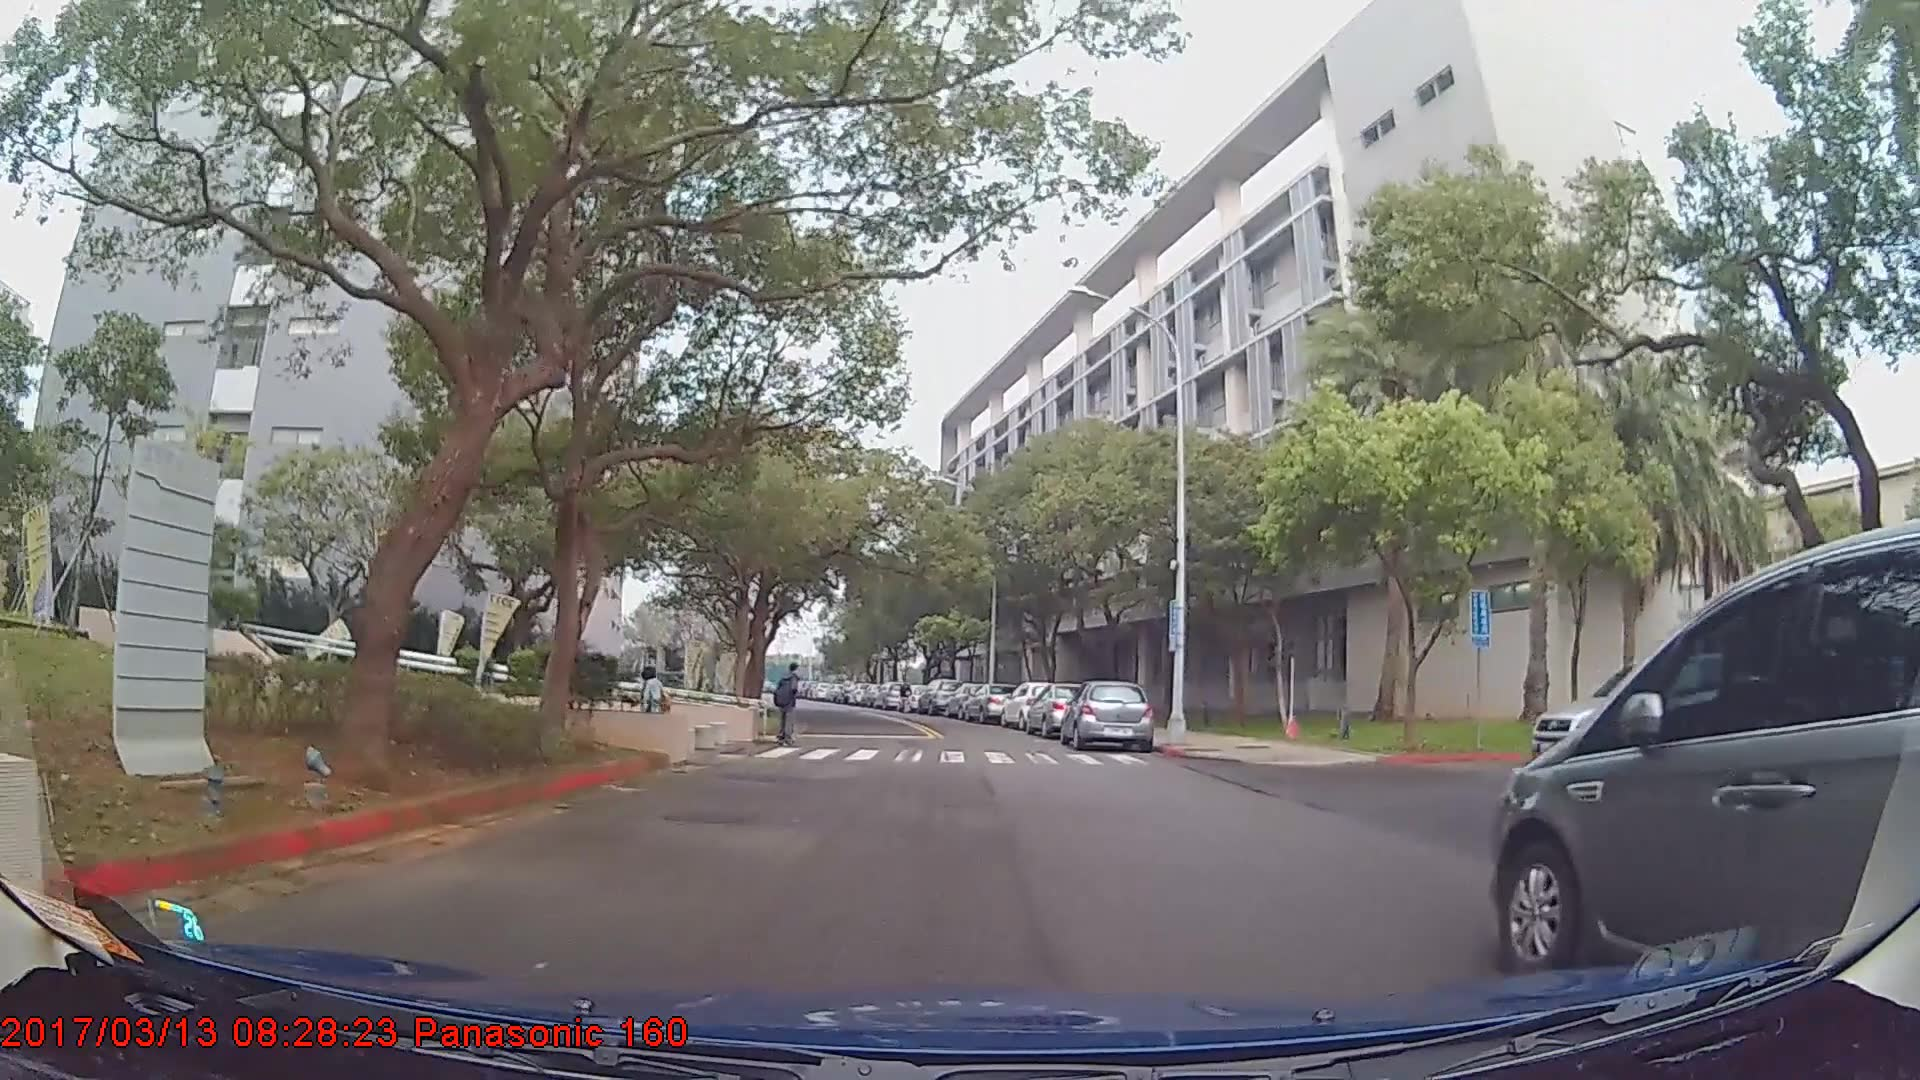pedestrian: (630, 668, 675, 755), (773, 662, 804, 752)
vehicle: (1490, 517, 1920, 983), (1060, 679, 1152, 753), (1021, 680, 1107, 736), (997, 678, 1068, 734), (962, 681, 1012, 720), (917, 678, 961, 715)
